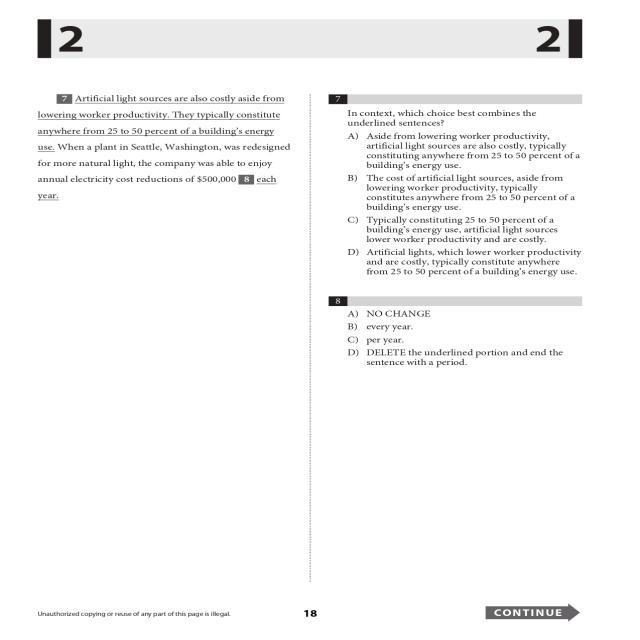Answer_Block: (316, 129, 594, 281), (316, 308, 594, 374)
Instruction: (35, 90, 301, 586)
Question_Answer_Block: (316, 294, 594, 582), (316, 90, 594, 280)
Question_Block: (316, 89, 594, 127), (316, 294, 594, 308)
Question_Paper_Area: (316, 89, 594, 582), (35, 90, 301, 586)
